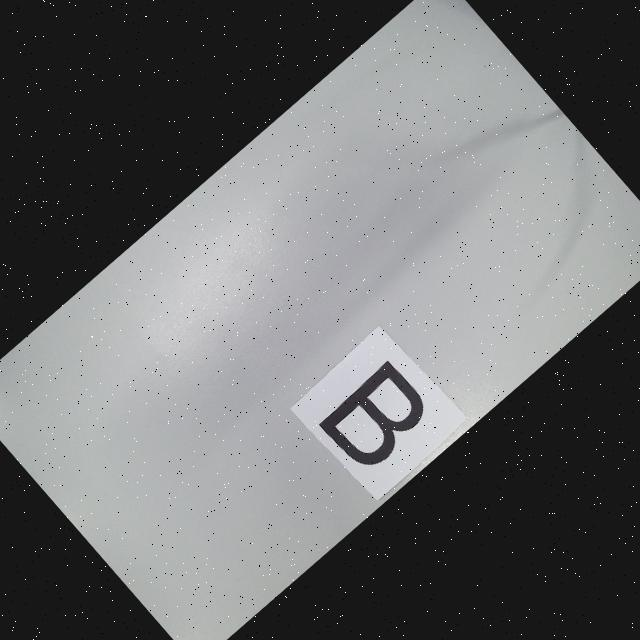FAKE: (316, 358, 438, 477)
